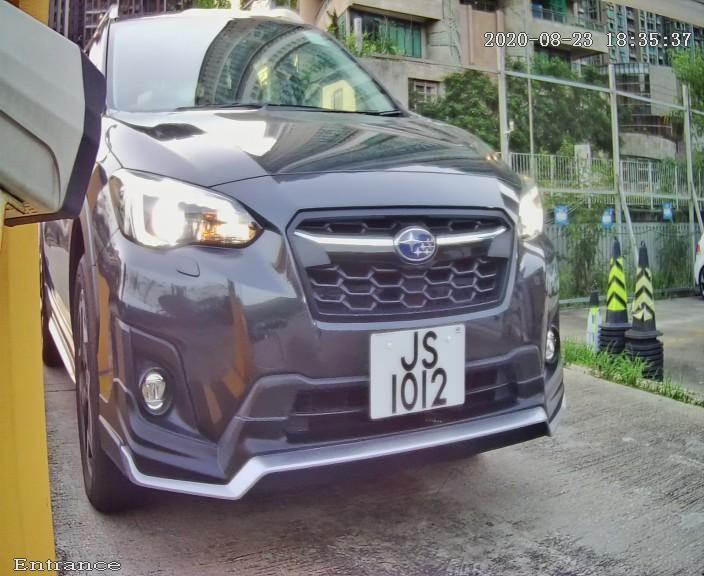Car: (16, 8, 613, 530)
License Plate: (348, 297, 479, 445)
